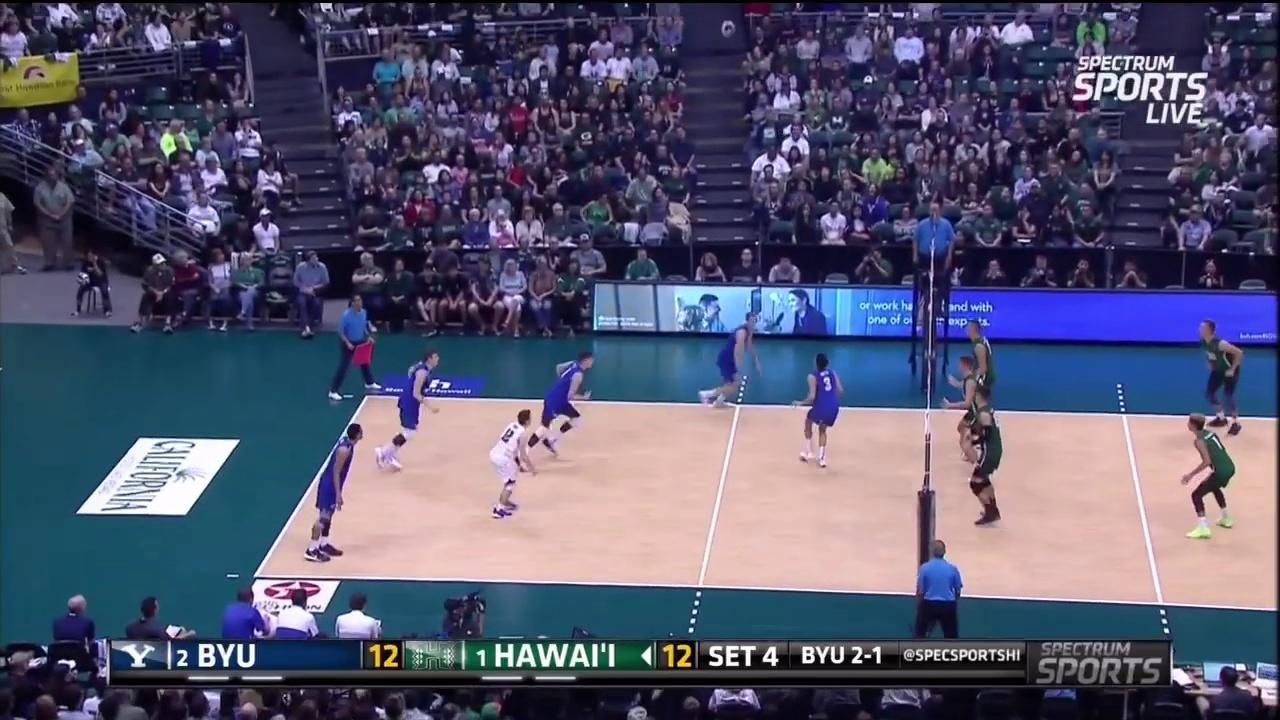player: (308, 416, 364, 564), (382, 351, 441, 474), (1183, 419, 1239, 538), (965, 386, 1008, 526), (948, 356, 992, 481), (540, 355, 591, 462), (490, 410, 539, 519), (1199, 319, 1245, 429), (704, 312, 757, 404), (958, 319, 999, 436), (801, 356, 843, 470)
refree: (904, 196, 961, 309), (328, 293, 379, 398), (914, 544, 962, 643)
